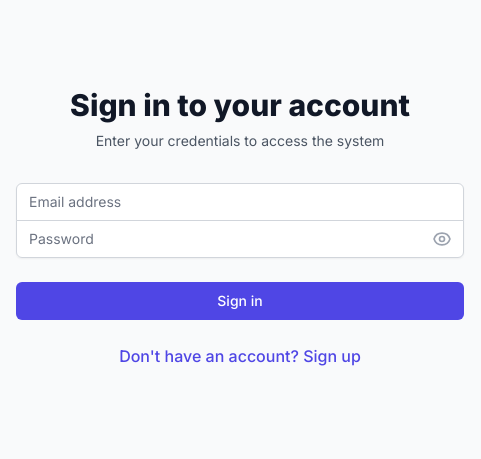
Test: LoginPage › displays error message on login failure
Type "test@example.com" into the field labelled "Email address" at (240, 202), box [16,182,464,220]
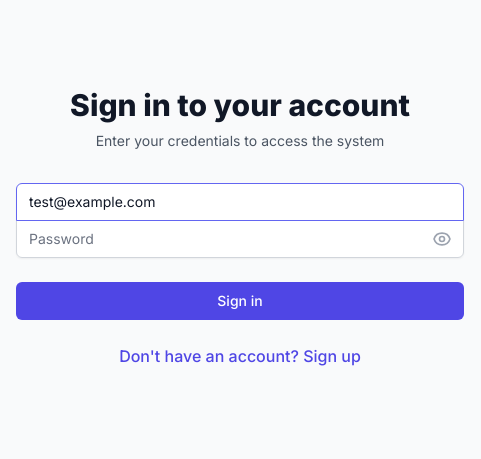
Type "wrongpassword" into the password field labelled "Password" at (240, 238), box [16,220,464,258]
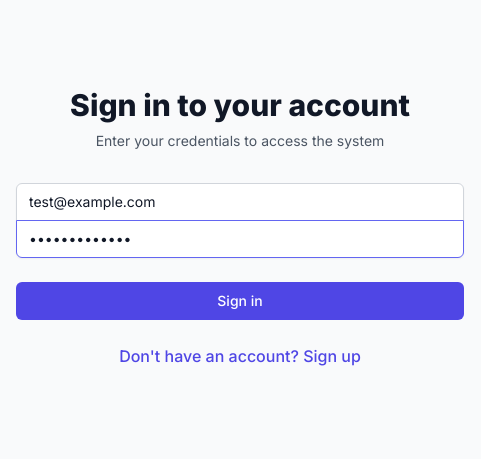
Click the button "Sign in" at (240, 300), box [16,282,464,320]
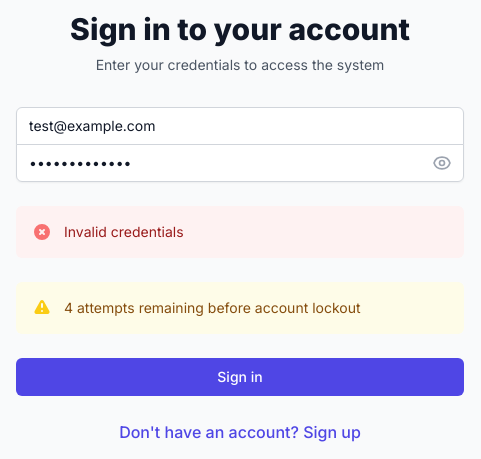
Check: the text "Invalid credentials" is shown, box [64,222,184,242]
